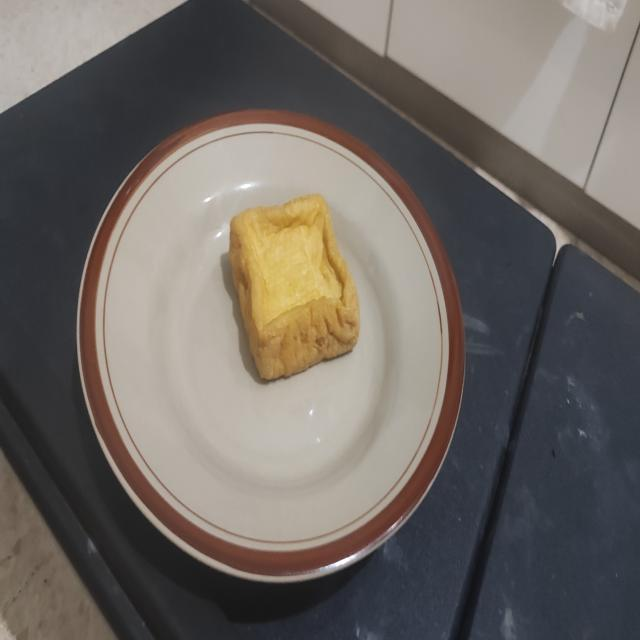tahu_goreng: (230, 195, 360, 380)
